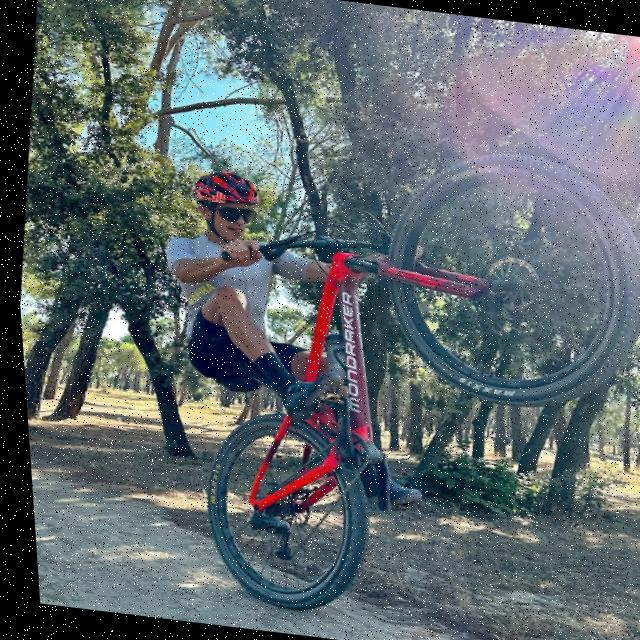illegal_helmet: (178, 164, 263, 248)
